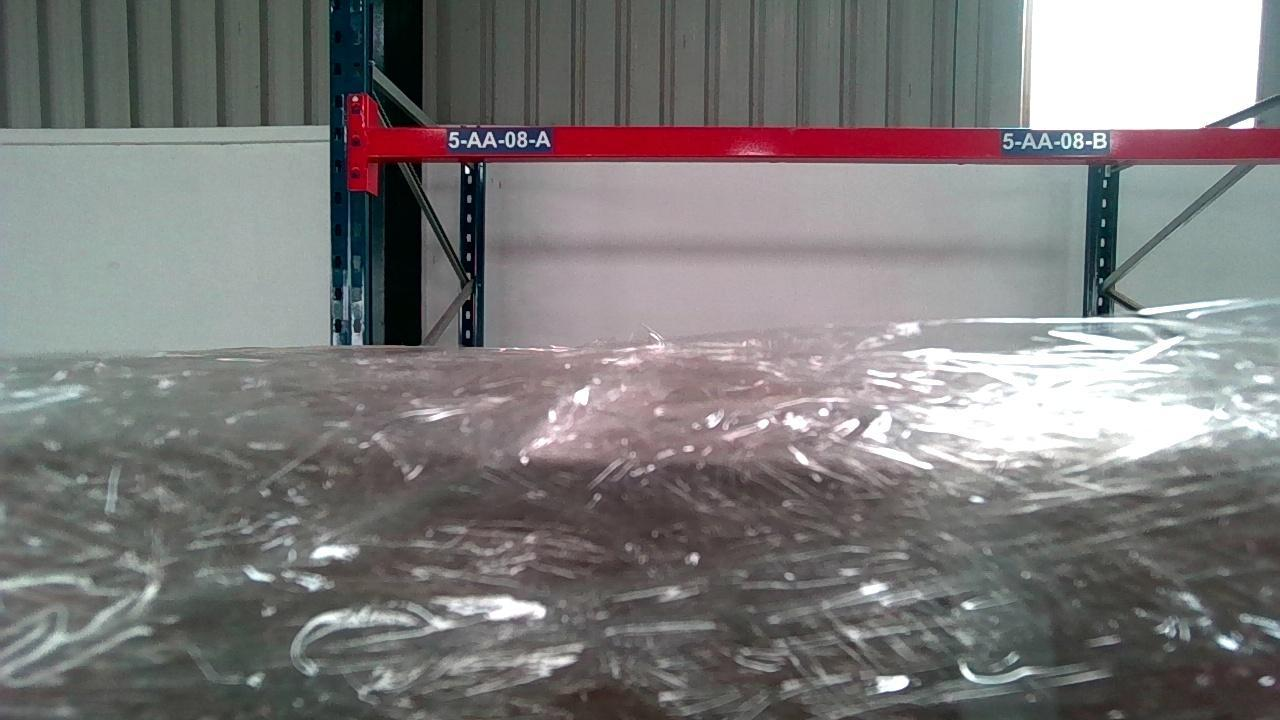h_rack: (371, 124, 1277, 159)
